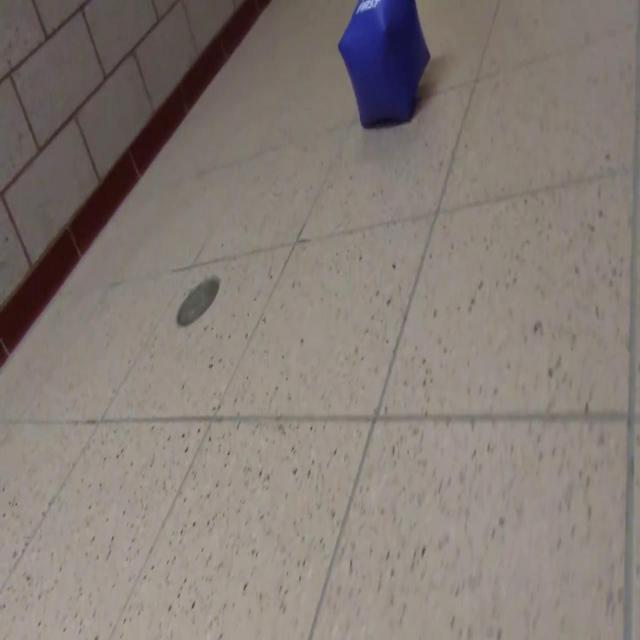frc_cube: (337, 0, 430, 131)
